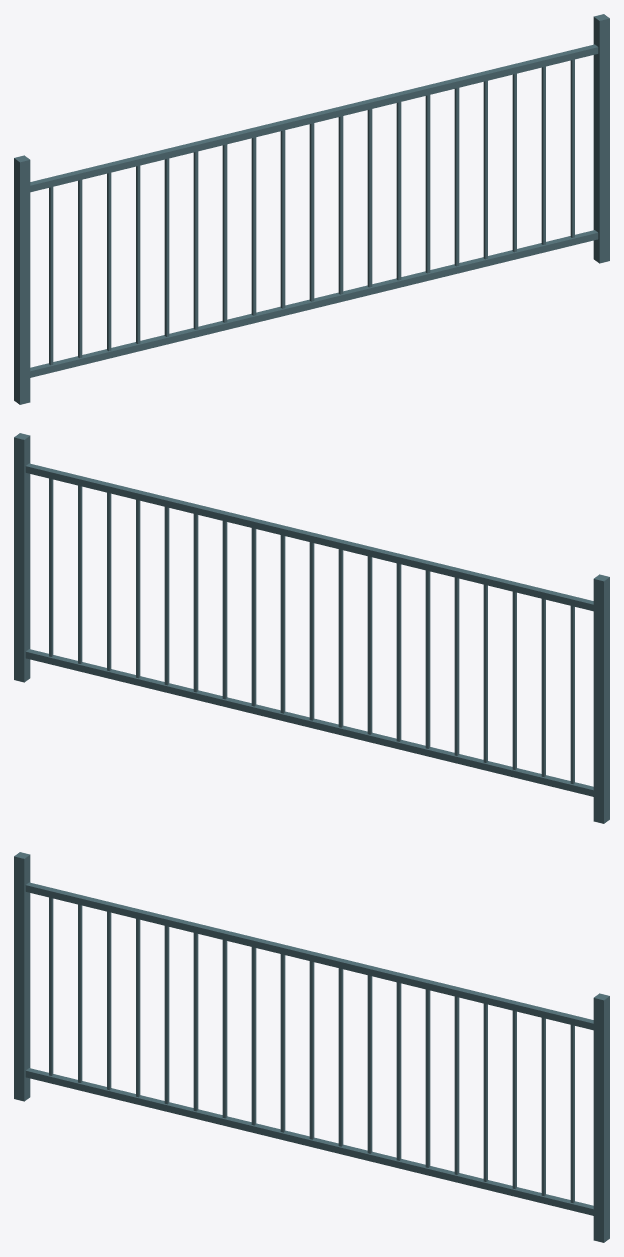
The model's file is TK_Fence_5m.fbx.
The picture shows the model from 3 angles, top to bottom: view 1: azimuth 30°, elevation 25°; view 2: azimuth 150°, elevation 25°; view 3: azimuth 330°, elevation 25°; orthographic projection.
Parts seen in each view (by area): view 1: FenceRail.001, FenceRail, FencePost, FencePost.001, Picket.006, Picket.007, Picket.009, Picket.005, Picket.008, Picket.010, Picket.012, Picket.013 (+11 smaller); view 2: FenceRail.001, FenceRail, FencePost, FencePost.001, Picket.006, Picket.007, Picket.009, Picket.005, Picket.008, Picket.010, Picket.012, Picket.013 (+11 smaller); view 3: FenceRail.001, FenceRail, FencePost.001, FencePost, Picket.009, Picket.011, Picket.012, Picket.005, Picket.006, Picket.008, Picket.010, Picket.013 (+11 smaller).
Part boxes in pixels (x1=…): FenceRail.001: x1=30, y1=44, x2=598, y2=192; FenceRail: x1=30, y1=230, x2=598, y2=377; FencePost: x1=14, y1=155, x2=30, y2=404; FencePost.001: x1=593, y1=14, x2=609, y2=263; Picket.006: x1=222, y1=144, x2=227, y2=322; Picket.007: x1=251, y1=137, x2=256, y2=315; Picket.009: x1=309, y1=123, x2=314, y2=301; Picket.005: x1=193, y1=151, x2=198, y2=329; Picket.008: x1=280, y1=130, x2=285, y2=308; Picket.010: x1=338, y1=116, x2=343, y2=294; Picket.012: x1=396, y1=102, x2=401, y2=280; Picket.013: x1=425, y1=95, x2=430, y2=273; FenceRail.001: x1=25, y1=463, x2=593, y2=611; FenceRail: x1=25, y1=649, x2=593, y2=796; FencePost: x1=593, y1=574, x2=609, y2=823; FencePost.001: x1=14, y1=433, x2=30, y2=682; Picket.006: x1=396, y1=563, x2=401, y2=741; Picket.007: x1=367, y1=556, x2=372, y2=734; Picket.009: x1=309, y1=542, x2=314, y2=720; Picket.005: x1=425, y1=570, x2=430, y2=748; Picket.008: x1=338, y1=549, x2=343, y2=727; Picket.010: x1=280, y1=535, x2=285, y2=713; Picket.012: x1=222, y1=521, x2=227, y2=699; Picket.013: x1=193, y1=514, x2=198, y2=692; FenceRail.001: x1=25, y1=882, x2=593, y2=1030; FenceRail: x1=25, y1=1068, x2=593, y2=1215; FencePost.001: x1=593, y1=993, x2=609, y2=1242; FencePost: x1=14, y1=852, x2=30, y2=1101; Picket.009: x1=309, y1=961, x2=314, y2=1139; Picket.011: x1=367, y1=975, x2=372, y2=1153; Picket.012: x1=396, y1=982, x2=401, y2=1160; Picket.005: x1=193, y1=933, x2=198, y2=1111; Picket.006: x1=222, y1=940, x2=227, y2=1118; Picket.008: x1=280, y1=954, x2=285, y2=1132; Picket.010: x1=338, y1=968, x2=343, y2=1146; Picket.013: x1=425, y1=989, x2=430, y2=1167.
Size of the model in its own units: 5.09 by 2 by 0.09.
